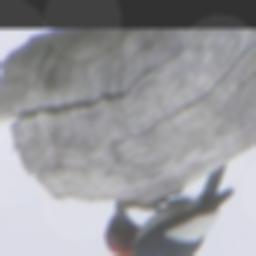Woodpecker: (99, 161, 239, 256)
